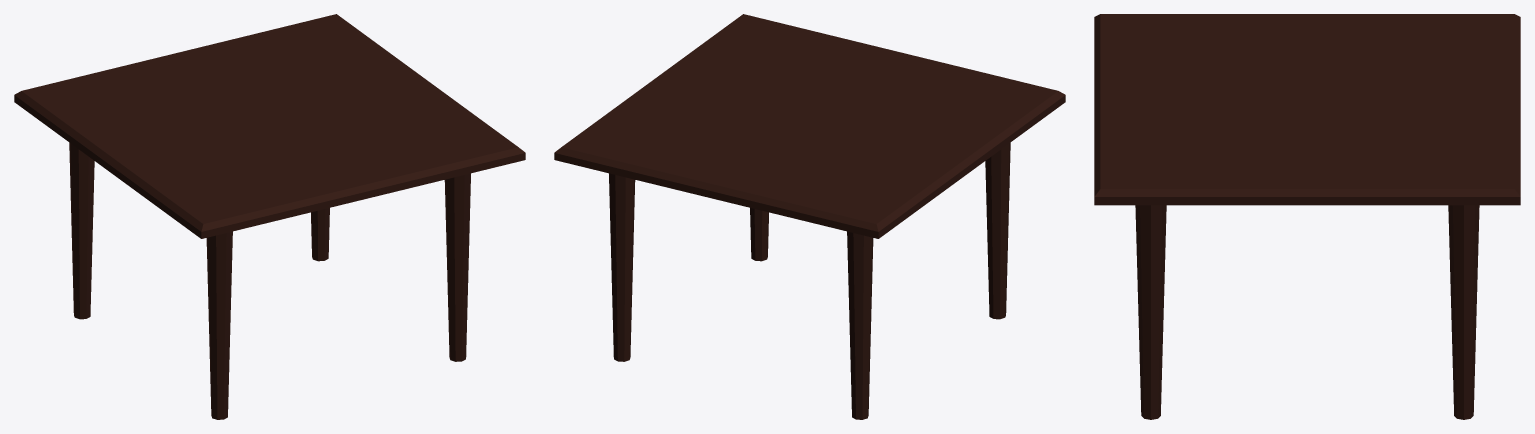
3 renders of one model, left to right at view 1: azimuth 30°, elevation 25°; view 2: azimuth 150°, elevation 25°; view 3: azimuth 270°, elevation 25°, orthographic. The views are drawn at different scales.
Parts seen in each view (by area): view 1: Table_Small_Rectangular_01_Circle008; view 2: Table_Small_Rectangular_01_Circle008; view 3: Table_Small_Rectangular_01_Circle008.
Part boxes in pixels (<box>): Table_Small_Rectangular_01_Circle008: <box>14,14,525,419</box>; Table_Small_Rectangular_01_Circle008: <box>554,14,1065,419</box>; Table_Small_Rectangular_01_Circle008: <box>1094,14,1520,419</box>.
Size of the model in its own units: 11.74 by 7.54 by 11.74.
